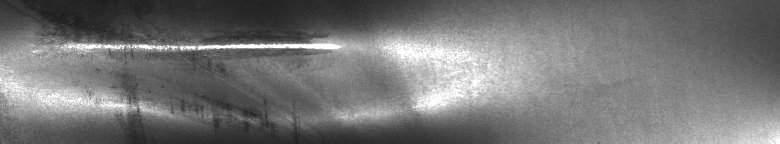ke: (56, 35, 356, 124)
